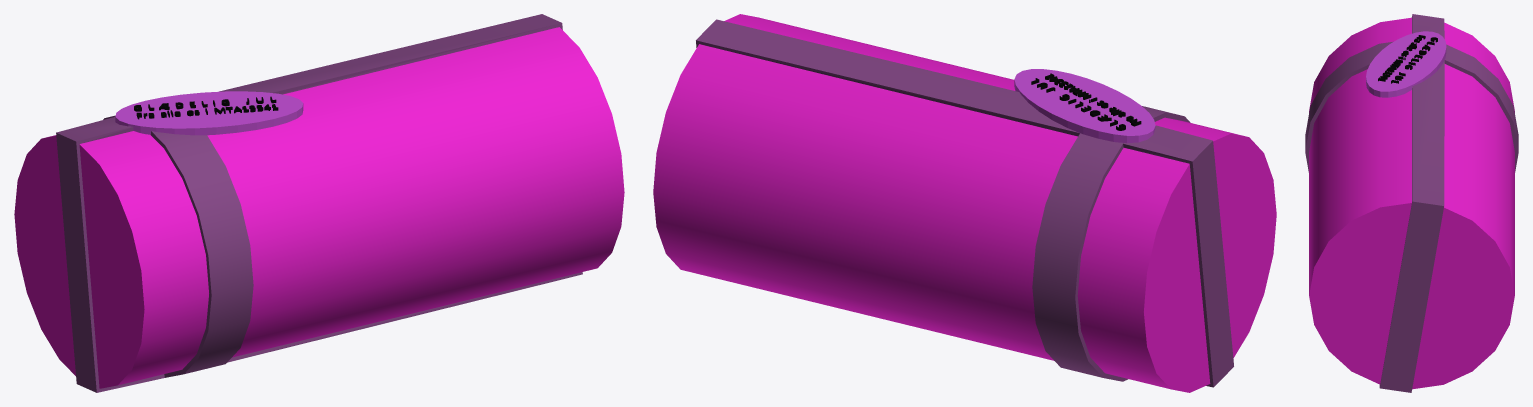
File: present_cylinder_pinkrosa.FBX
3 renders of one model, left to right at view 1: azimuth 30°, elevation 25°; view 2: azimuth 150°, elevation 25°; view 3: azimuth 270°, elevation 25°, orthographic. The views are drawn at different scales.
Parts seen in each view (by area): view 1: Cylinder001, Object001, Ellipse001, Text001; view 2: Cylinder001, Object001, Ellipse001, Text001; view 3: Cylinder001, Object001, Ellipse001, Text001.
Part boxes in pixels (left/top/right/bottom): Cylinder001: left=14, top=27, right=624, bottom=388; Object001: left=56, top=14, right=582, bottom=392; Ellipse001: left=115, top=91, right=303, bottom=135; Text001: left=134, top=96, right=278, bottom=119; Cylinder001: left=653, top=14, right=1276, bottom=392; Object001: left=696, top=19, right=1233, bottom=387; Ellipse001: left=1014, top=69, right=1155, bottom=143; Text001: left=1031, top=73, right=1141, bottom=130; Cylinder001: left=1309, top=17, right=1514, bottom=389; Object001: left=1305, top=14, right=1518, bottom=392; Ellipse001: left=1366, top=31, right=1446, bottom=97; Text001: left=1378, top=35, right=1437, bottom=83.
Size of the model in its own units: 90.24 by 44.22 by 43.43.
